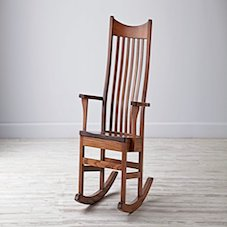chair: (42, 9, 167, 225)
